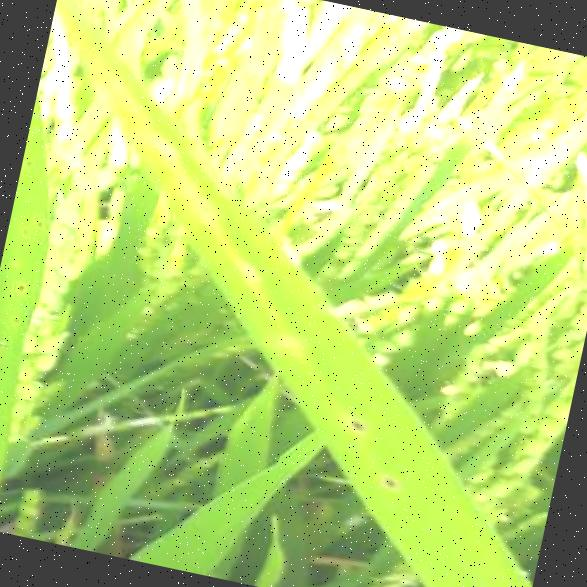Brown_Spot: (370, 464, 406, 494), (338, 406, 370, 437), (6, 273, 30, 293), (16, 221, 36, 240), (28, 214, 48, 229), (21, 150, 37, 168), (8, 309, 24, 325)
